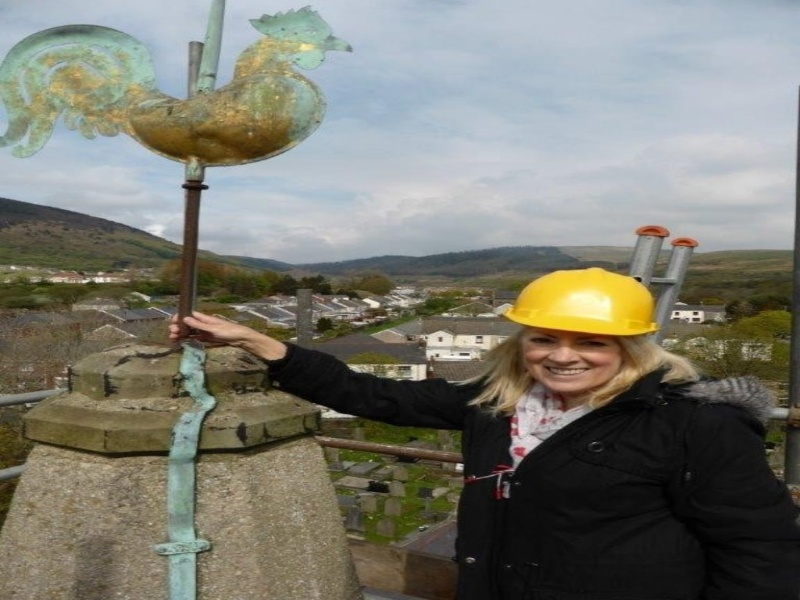Baret: (507, 267, 657, 335)
